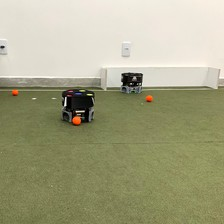ball: (70, 113, 83, 124), (8, 86, 19, 96), (144, 92, 153, 103)
goal: (98, 61, 222, 92)
robot: (57, 85, 96, 124), (115, 70, 143, 95)
